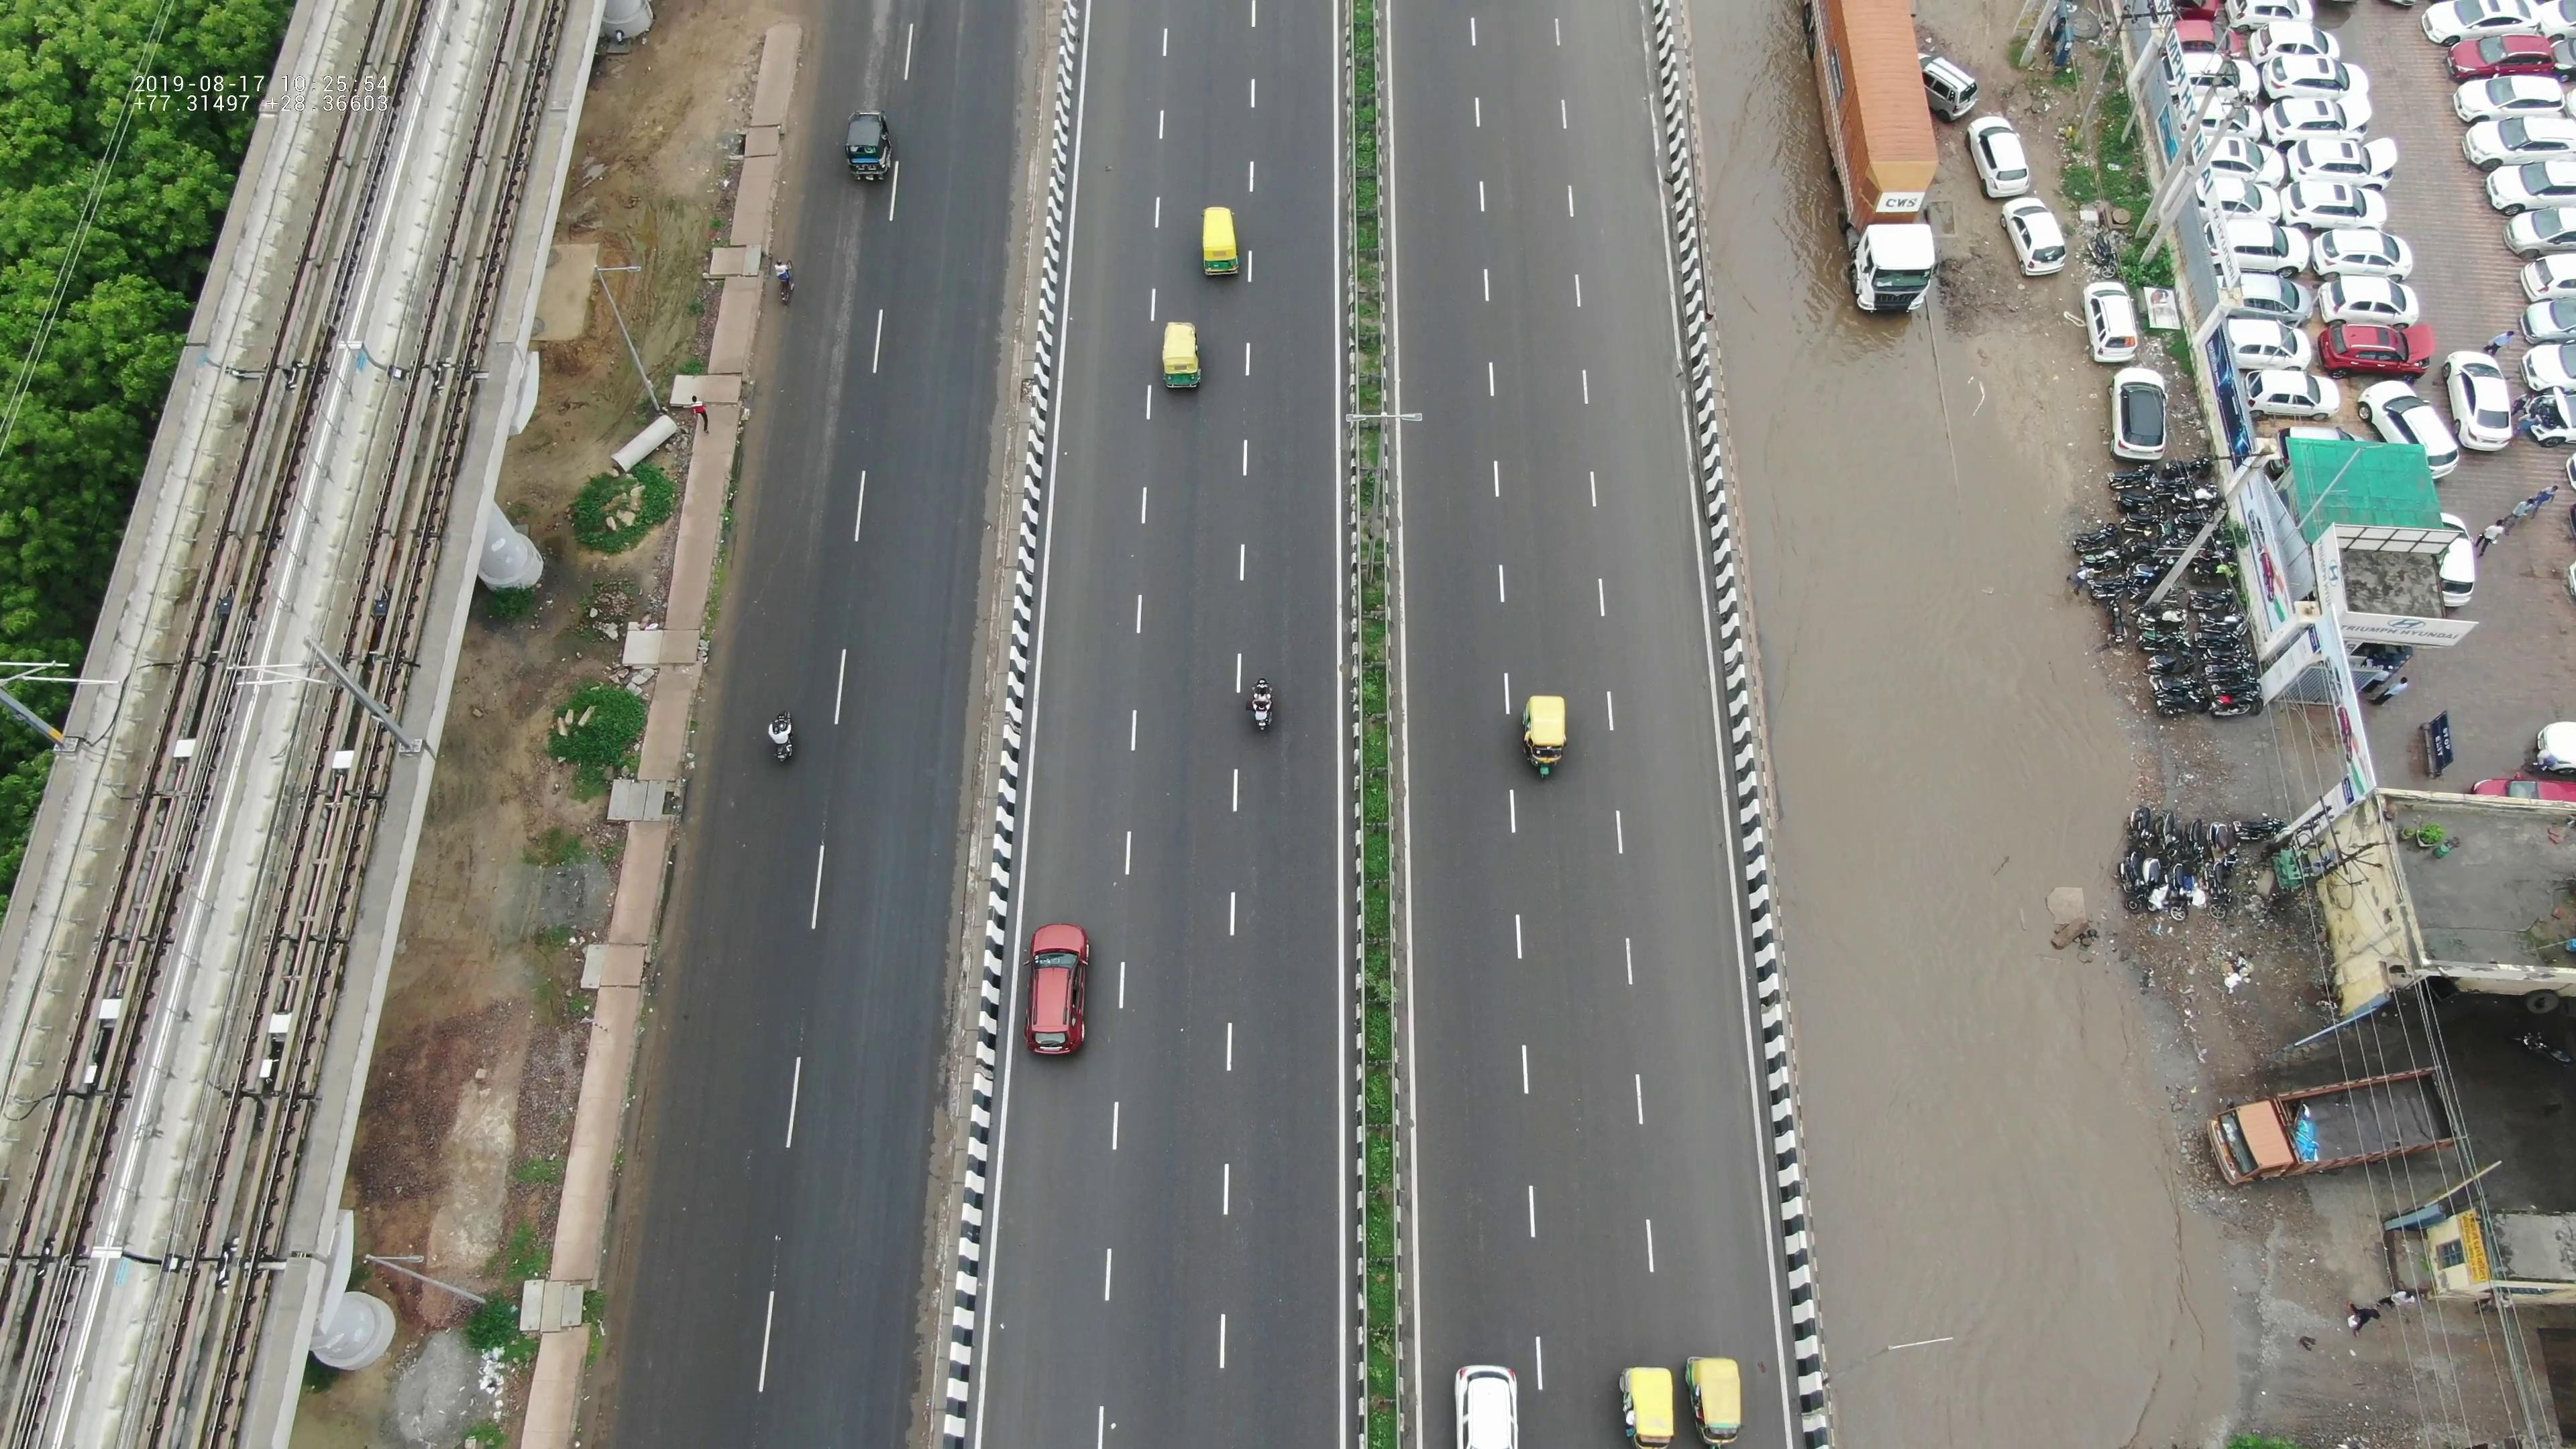Waterlogging: (1775, 985, 2272, 1435), (1729, 548, 2199, 977), (1700, 246, 2089, 541), (1683, 7, 1881, 235)
